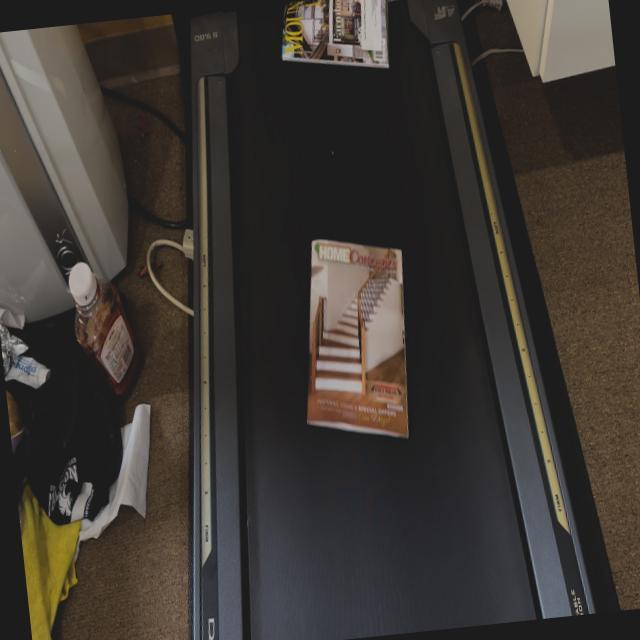Recycle: (284, 226, 423, 455), (273, 0, 396, 81)
